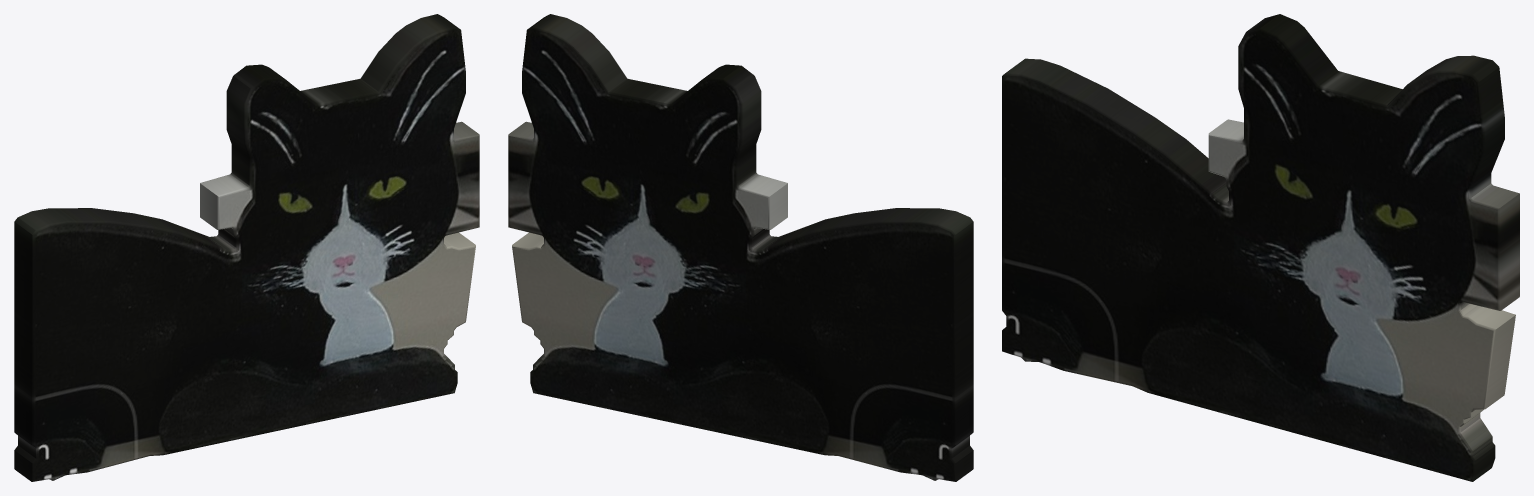
File: pet-sitters.glb
The picture shows the model from 3 angles, left to right: view 1: azimuth 30°, elevation 25°; view 2: azimuth 150°, elevation 25°; view 3: azimuth 330°, elevation 25°; orthographic projection. The views are drawn at different scales.
Parts seen in each view (by area): view 1: Cat shelf sitter; view 2: Cat shelf sitter; view 3: Cat shelf sitter.
Boxes of the visible parts, x1=… form: Cat shelf sitter: x1=14, y1=14, x2=479, y2=481; Cat shelf sitter: x1=508, y1=14, x2=973, y2=481; Cat shelf sitter: x1=1002, y1=14, x2=1519, y2=481.
Size of the model in its own units: 0.2921 by 0.2284 by 0.0214.
Materials: 1 (1 with a texture image).
